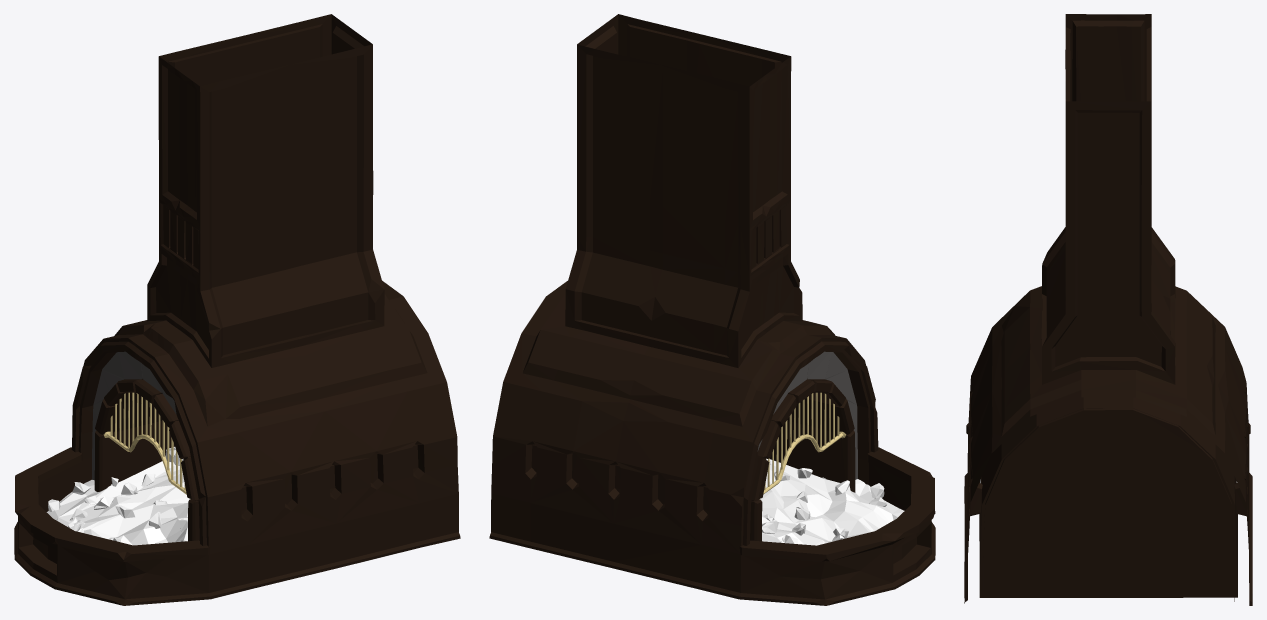
Rendered from SFFA_Forge_Oven.fbx.
The picture shows the model from 3 angles, left to right: view 1: azimuth 30°, elevation 25°; view 2: azimuth 150°, elevation 25°; view 3: azimuth 270°, elevation 25°; orthographic projection. The views are drawn at different scales.
Visible parts, largest first — view 1: SFFA_Forge_Oven; view 2: SFFA_Forge_Oven; view 3: SFFA_Forge_Oven.
Part boxes in pixels (bbox=[...]): SFFA_Forge_Oven: bbox=[14, 14, 460, 605]; SFFA_Forge_Oven: bbox=[489, 14, 935, 605]; SFFA_Forge_Oven: bbox=[964, 14, 1252, 605].
Bounding box in the file's own units: 443 × 549 × 296.
